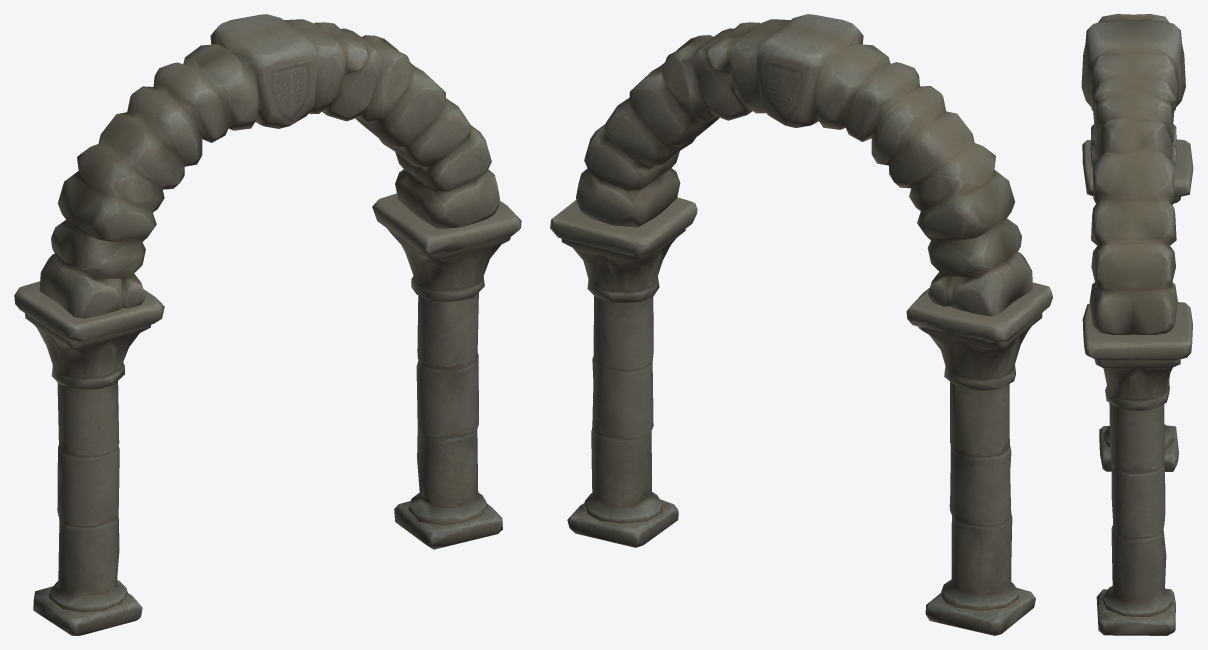
File: SM_FW01_Ruins_Decor_Arch_04.fbx
3 renders of one model, left to right at view 1: azimuth 30°, elevation 25°; view 2: azimuth 150°, elevation 25°; view 3: azimuth 270°, elevation 25°, orthographic. The views are drawn at different scales.
Visible parts, largest first — view 1: SM_FW01_Ruins_Decor_Arch_04_LOD0; view 2: SM_FW01_Ruins_Decor_Arch_04_LOD0; view 3: SM_FW01_Ruins_Decor_Arch_04_LOD0.
Boxes of the visible parts, bbox=[...] form: SM_FW01_Ruins_Decor_Arch_04_LOD0: bbox=[14, 14, 521, 635]; SM_FW01_Ruins_Decor_Arch_04_LOD0: bbox=[550, 14, 1052, 635]; SM_FW01_Ruins_Decor_Arch_04_LOD0: bbox=[1081, 14, 1193, 635].
Size of what is drawn, in the model's own units: 3.47 by 3.93 by 0.7903.
